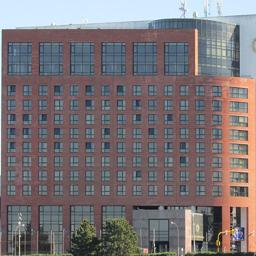building: (0, 13, 256, 250)
